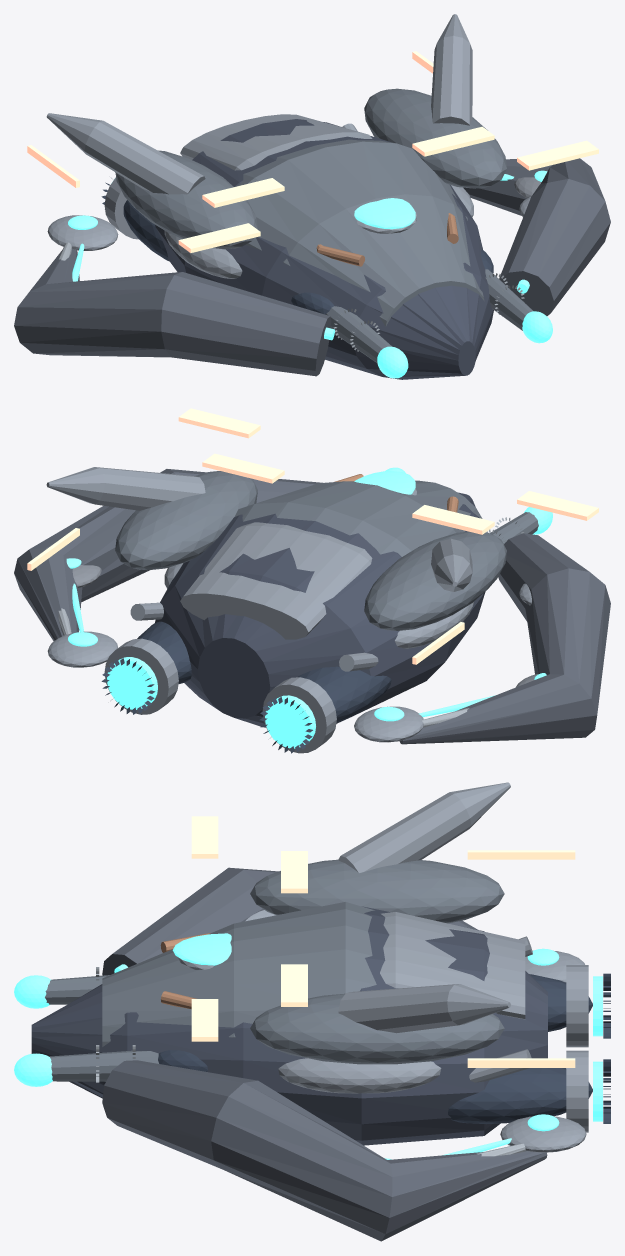
File: npc_astralReaper.glb
3 renders of one model, top to bottom at view 1: azimuth 30°, elevation 25°; view 2: azimuth 150°, elevation 25°; view 3: azimuth 270°, elevation 25°, orthographic. The views are drawn at different scales.
Visible parts, largest first — view 1: armored_scythe_-1, upper_armor_scar, keel_pressure_hull, armored_scythe_1, colossar_pylon_guard_1, V59 trim baked, colossar_radar_crest_-1, colossar_pylon_guard_-1, colossar_dorsal_fortress, colossar_radar_crest_1, long_plasma_cannon_-1, scythe_plate_-1_2 (+9 smaller); view 2: keel_pressure_hull, armored_scythe_-1, colossar_dorsal_fortress, upper_armor_scar, armored_scythe_1, colossar_pylon_guard_1, colossar_pylon_guard_-1, V59 trim baked, colossar_radar_crest_1, engine_armor_-1, exhaust_coil_-1, exhaust_coil_1 (+14 smaller); view 3: armored_scythe_1, keel_pressure_hull, upper_armor_scar, colossar_pylon_guard_-1, colossar_pylon_guard_1, colossar_dorsal_fortress, V59 trim baked, armored_scythe_-1, colossar_radar_crest_-1, colossar_radar_crest_1, engine_armor_1, heavy_shield_pad_1 (+14 smaller).
Part boxes in pixels (bbox=[...]): armored_scythe_-1: bbox=[14, 249, 331, 376]; upper_armor_scar: bbox=[236, 139, 484, 326]; keel_pressure_hull: bbox=[155, 119, 493, 379]; armored_scythe_1: bbox=[463, 158, 610, 315]; colossar_pylon_guard_1: bbox=[364, 88, 506, 188]; V59 trim baked: bbox=[27, 51, 598, 252]; colossar_radar_crest_-1: bbox=[46, 113, 205, 194]; colossar_pylon_guard_-1: bbox=[115, 150, 257, 249]; colossar_dorsal_fortress: bbox=[180, 114, 372, 170]; colossar_radar_crest_1: bbox=[431, 14, 472, 125]; long_plasma_cannon_-1: bbox=[326, 306, 391, 363]; scythe_plate_-1_2: bbox=[47, 215, 118, 250]; keel_pressure_hull: bbox=[155, 492, 487, 727]; armored_scythe_-1: bbox=[399, 533, 610, 744]; colossar_dorsal_fortress: bbox=[180, 522, 372, 639]; upper_armor_scar: bbox=[234, 480, 482, 556]; armored_scythe_1: bbox=[14, 469, 322, 641]; colossar_pylon_guard_1: bbox=[115, 471, 257, 570]; colossar_pylon_guard_-1: bbox=[364, 531, 506, 630]; V59 trim baked: bbox=[27, 408, 598, 664]; colossar_radar_crest_1: bbox=[46, 467, 205, 510]; engine_armor_-1: bbox=[298, 666, 391, 722]; exhaust_coil_-1: bbox=[262, 677, 336, 753]; exhaust_coil_1: bbox=[104, 638, 178, 714]; armored_scythe_1: bbox=[102, 1060, 547, 1241]; keel_pressure_hull: bbox=[31, 906, 547, 1145]; upper_armor_scar: bbox=[102, 902, 376, 1046]; colossar_pylon_guard_-1: bbox=[250, 859, 504, 923]; colossar_pylon_guard_1: bbox=[250, 993, 504, 1064]; colossar_dorsal_fortress: bbox=[380, 912, 525, 1019]; V59 trim baked: bbox=[191, 816, 575, 1067]; armored_scythe_-1: bbox=[102, 867, 477, 975]; colossar_radar_crest_-1: bbox=[338, 782, 510, 872]; colossar_radar_crest_1: bbox=[338, 984, 510, 1033]; engine_armor_1: bbox=[448, 1068, 592, 1124]; heavy_shield_pad_1: bbox=[278, 1058, 441, 1093].
Bounding box in the file's own units: 5.31 × 1.82 × 4.25.
